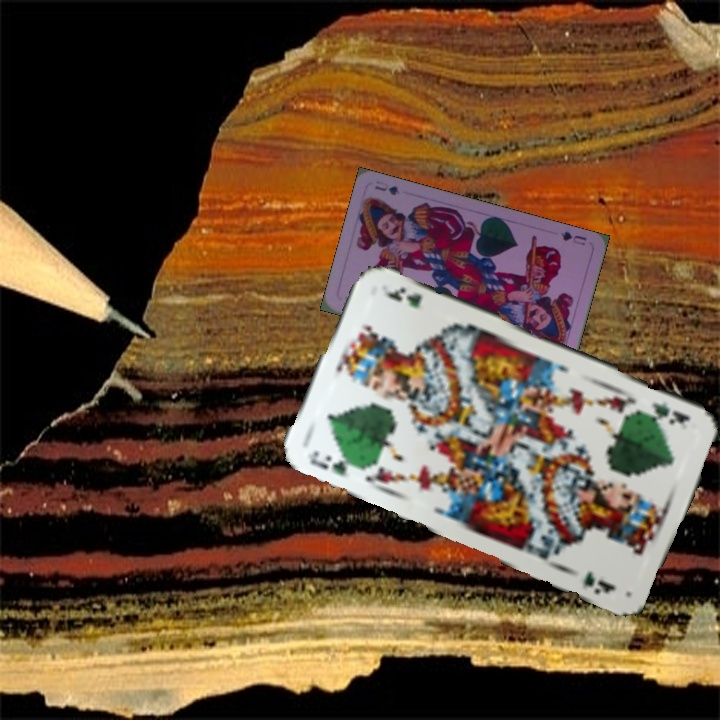GK: (303, 446, 360, 479), (639, 397, 693, 427)
GU: (557, 227, 589, 248)
